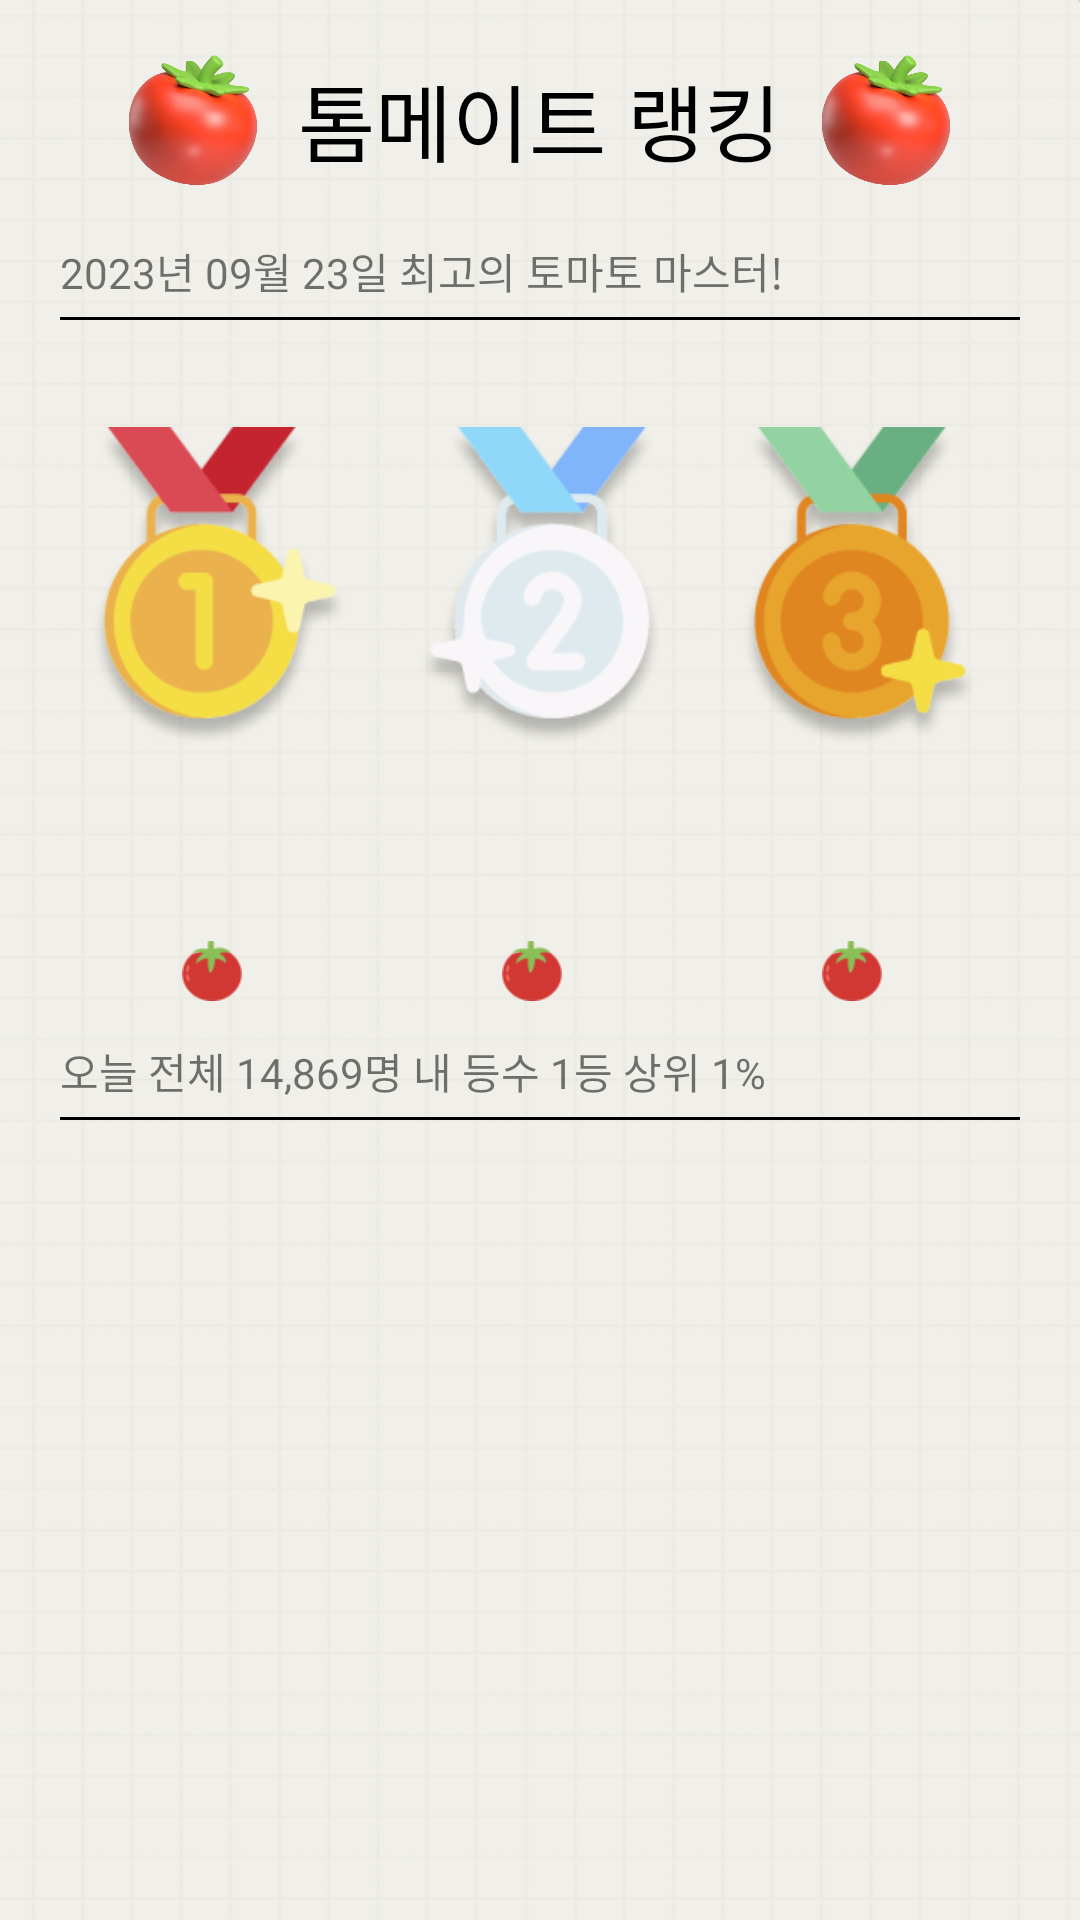

Icons on this 1080w x 1920h Android screen, each with its box as [x1,y1,x2,y2]:
bronze medal: [752,427,967,734]
gold medal: [101,427,336,734]
ranking tomato: [182,941,242,1001], [502,941,562,1001], [822,941,882,1001]
silver medal: [433,427,652,734]
tomato 3d: [129,55,257,185], [822,55,950,185]
